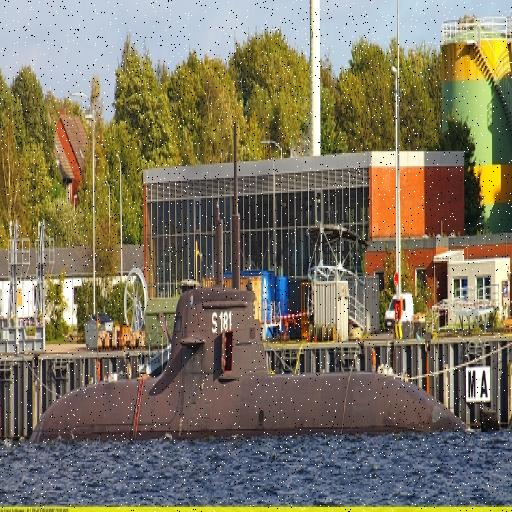submarine: (19, 288, 476, 430)
